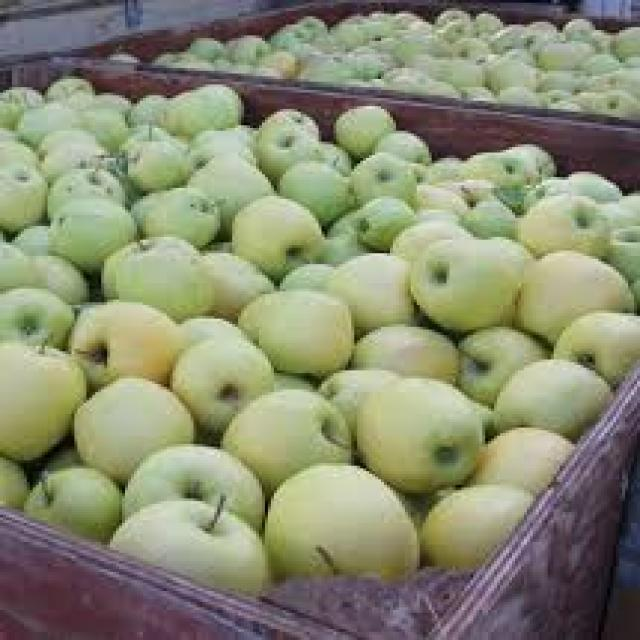Apple: (276, 464, 420, 582), (113, 501, 270, 602), (349, 371, 480, 487), (236, 292, 362, 376), (99, 235, 215, 322), (64, 385, 192, 457), (136, 448, 260, 518), (224, 393, 332, 473), (423, 486, 532, 564), (501, 355, 602, 437), (514, 256, 628, 328), (420, 243, 510, 329), (3, 350, 80, 450), (76, 310, 186, 379), (229, 198, 320, 276), (166, 350, 269, 418), (27, 470, 129, 533), (520, 192, 612, 261), (273, 162, 358, 230), (47, 201, 134, 261), (458, 327, 538, 392), (559, 320, 640, 377), (485, 431, 561, 490), (351, 334, 464, 373), (457, 138, 527, 198), (5, 282, 73, 341), (150, 192, 228, 242), (125, 135, 196, 187), (356, 194, 413, 251), (254, 124, 308, 174), (350, 156, 414, 198), (51, 165, 130, 198), (3, 169, 42, 230), (469, 201, 511, 236)
